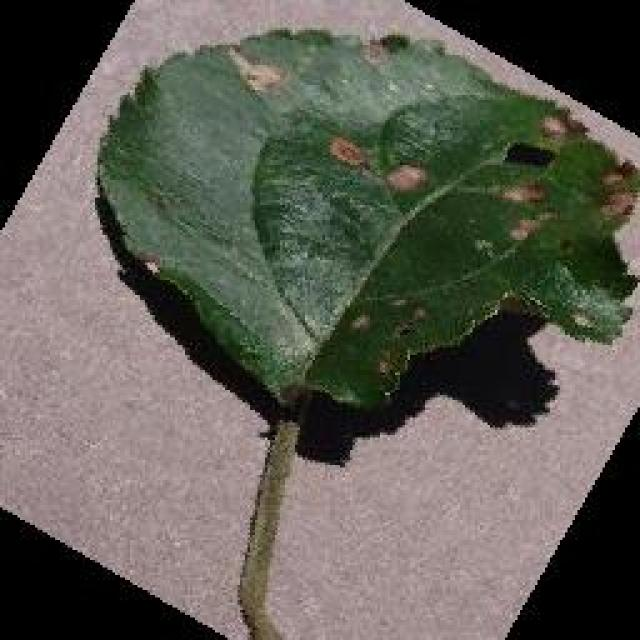Black_rot: (92, 25, 638, 415)
